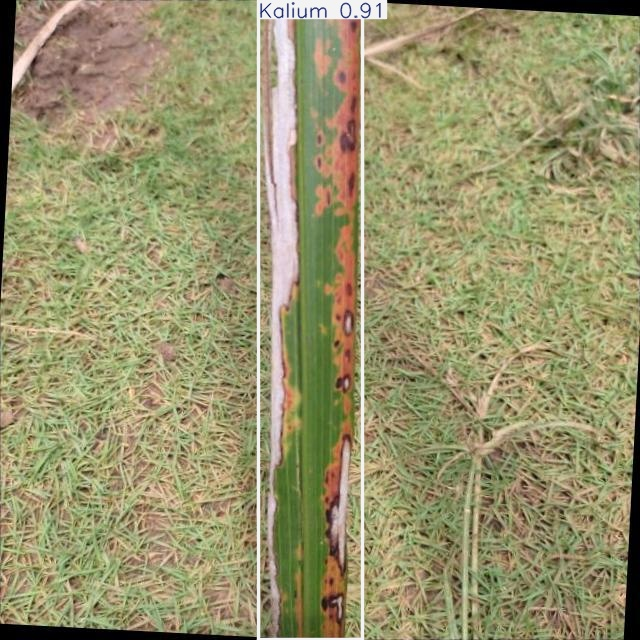Kalium: (259, 1, 362, 640)
